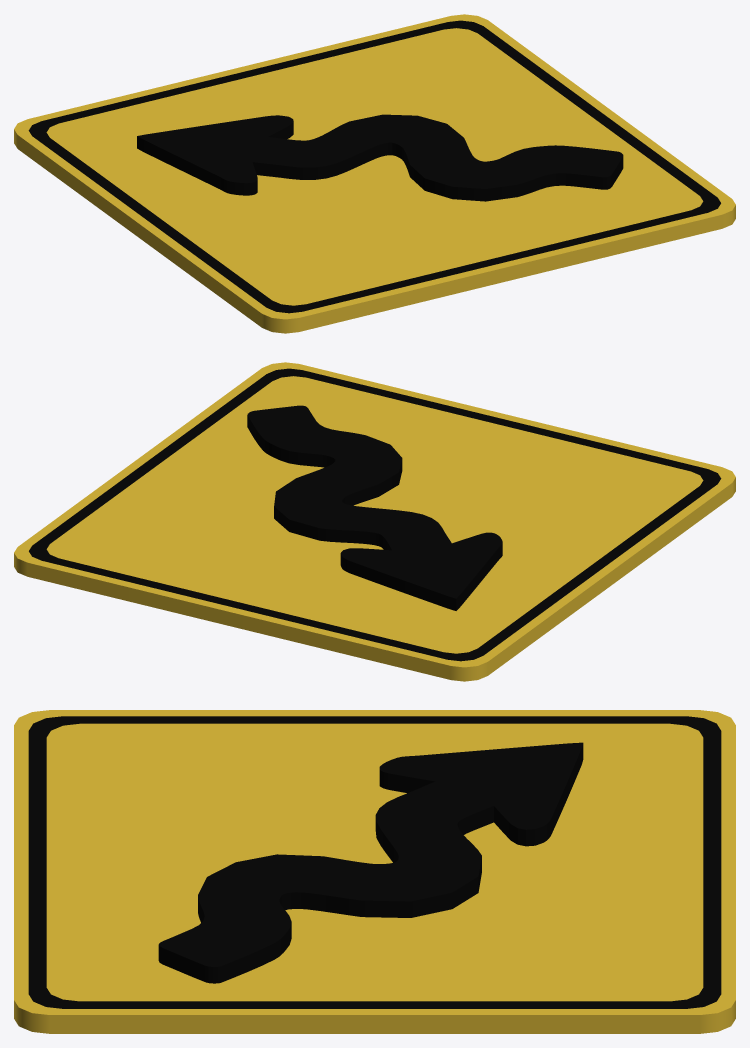
The model's file is left_winding_sign.fbx.
The picture shows the model from 3 angles, top to bottom: view 1: azimuth 30°, elevation 25°; view 2: azimuth 150°, elevation 25°; view 3: azimuth 270°, elevation 25°; orthographic projection. The views are drawn at different scales.
Parts seen in each view (by area): view 1: square_yellow_sign, LeftWinding; view 2: square_yellow_sign, LeftWinding; view 3: square_yellow_sign, LeftWinding.
Part boxes in pixels (x1=…): square_yellow_sign: x1=14, y1=14, x2=735, y2=333; LeftWinding: x1=137, y1=114, x2=623, y2=201; square_yellow_sign: x1=14, y1=362, x2=735, y2=681; LeftWinding: x1=247, y1=405, x2=502, y2=610; square_yellow_sign: x1=14, y1=710, x2=735, y2=1033; LeftWinding: x1=158, y1=742, x2=583, y2=983.
Bounding box in the file's own units: 70.96 × 3.83 × 70.96.
